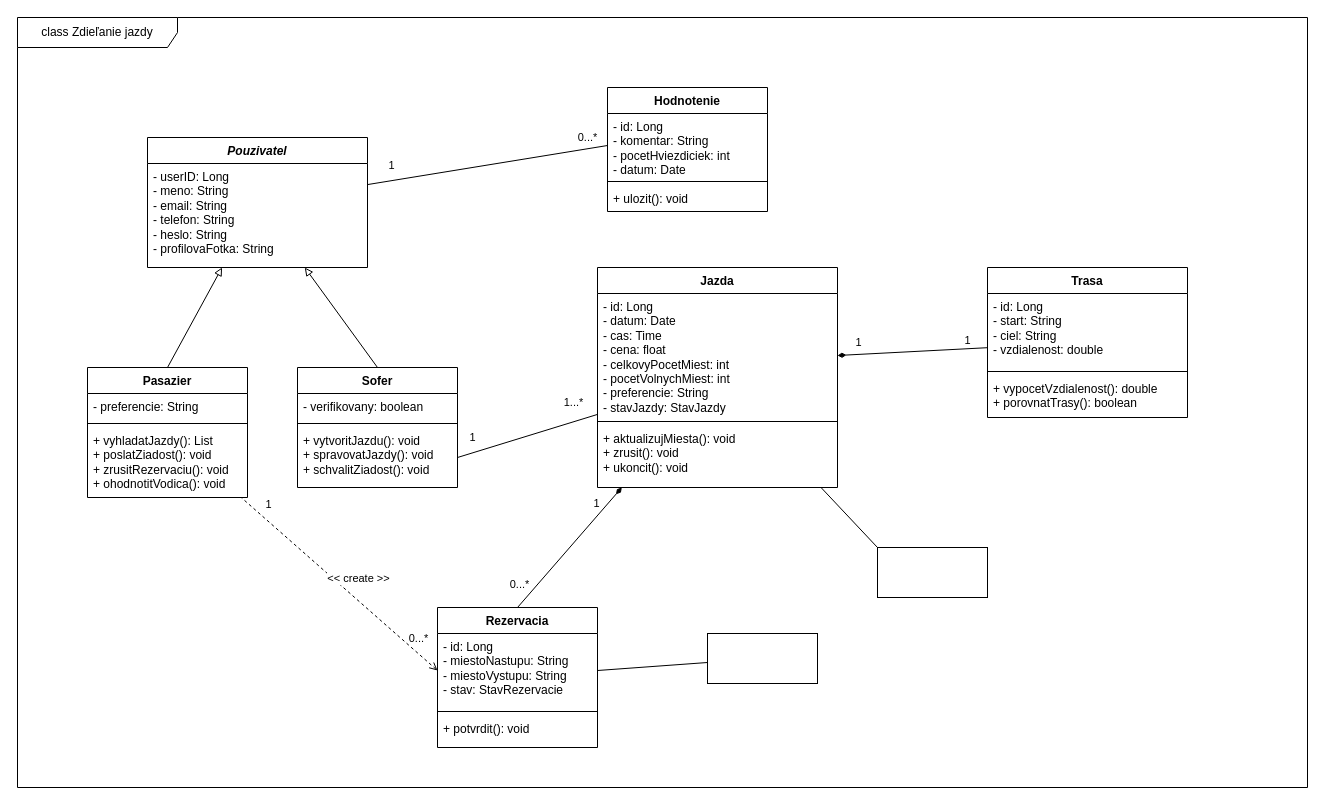
This 1325x805 diagram has some shape labels left out. Each missing label, with the centre of its shape:
«enum» StavJazdy: the point at 932,572
«enum» StavRezervacie: the point at 762,658
